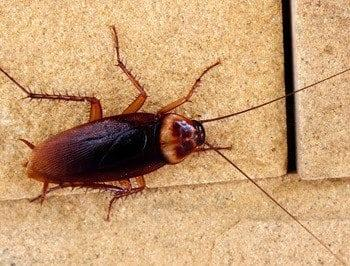cockroach: (23, 108, 207, 190)
